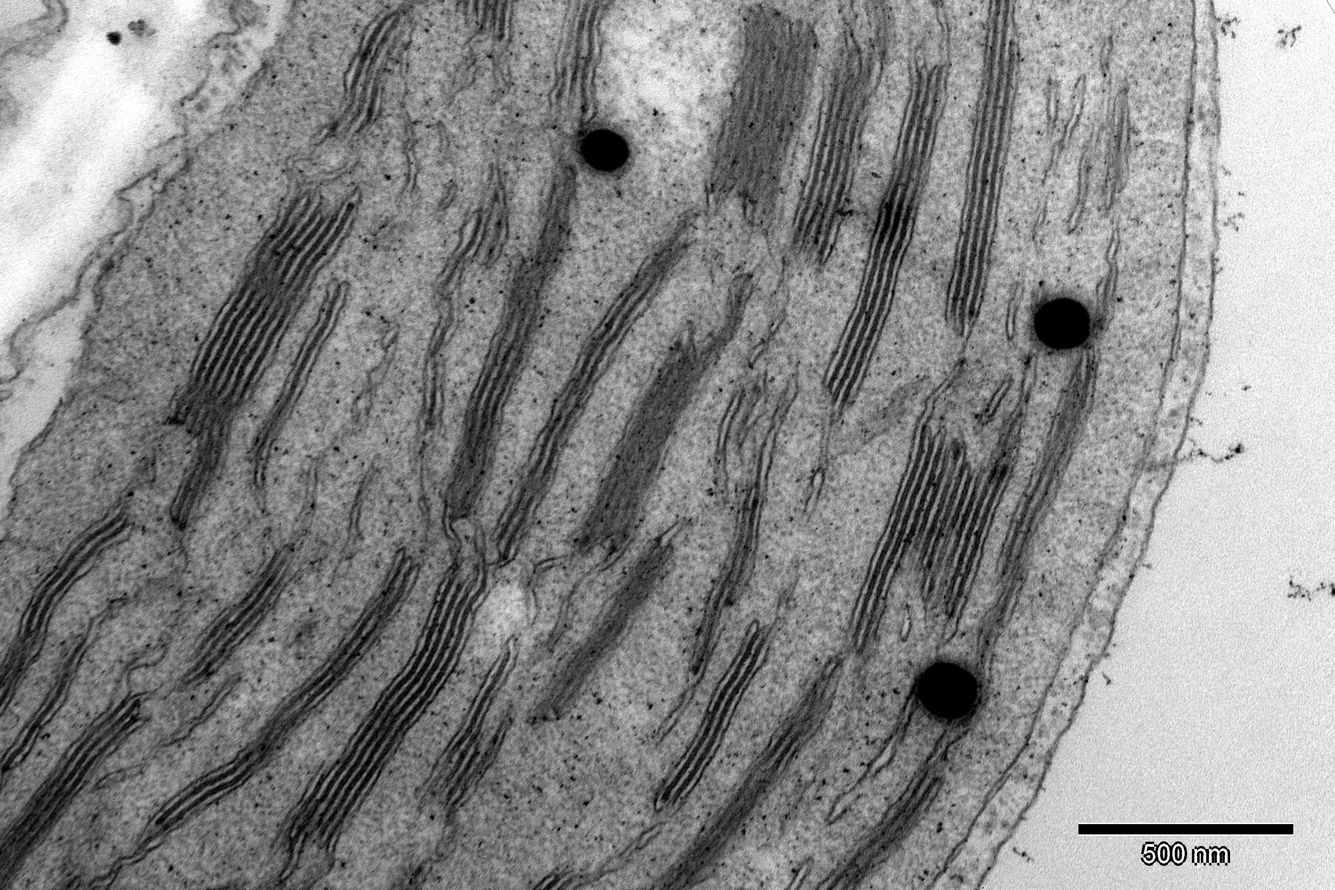granum: (134, 541, 426, 859), (152, 181, 363, 536), (485, 235, 697, 569), (274, 559, 498, 856), (432, 161, 580, 522), (638, 651, 847, 890), (815, 60, 951, 412), (839, 420, 1026, 659), (571, 316, 737, 554), (0, 494, 140, 729), (0, 685, 159, 890), (521, 531, 684, 726), (939, 0, 1027, 344), (170, 519, 330, 692), (647, 617, 784, 819), (700, 1, 824, 218), (786, 35, 890, 266), (997, 344, 1105, 562), (314, 0, 453, 149), (808, 753, 953, 890), (406, 716, 507, 830), (538, 0, 617, 128), (700, 480, 772, 613), (438, 199, 515, 278), (447, 0, 522, 48), (1088, 92, 1134, 156), (525, 857, 607, 889), (986, 550, 1031, 594)
